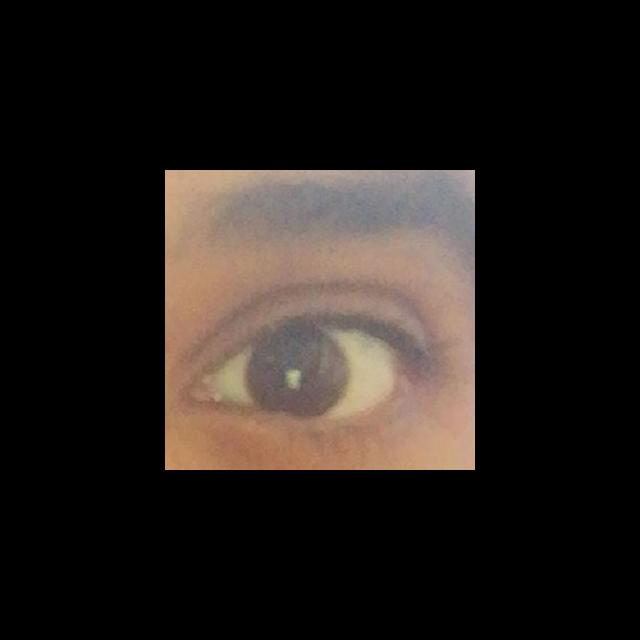eye: (218, 327, 395, 418)
iris: (247, 330, 348, 414)
